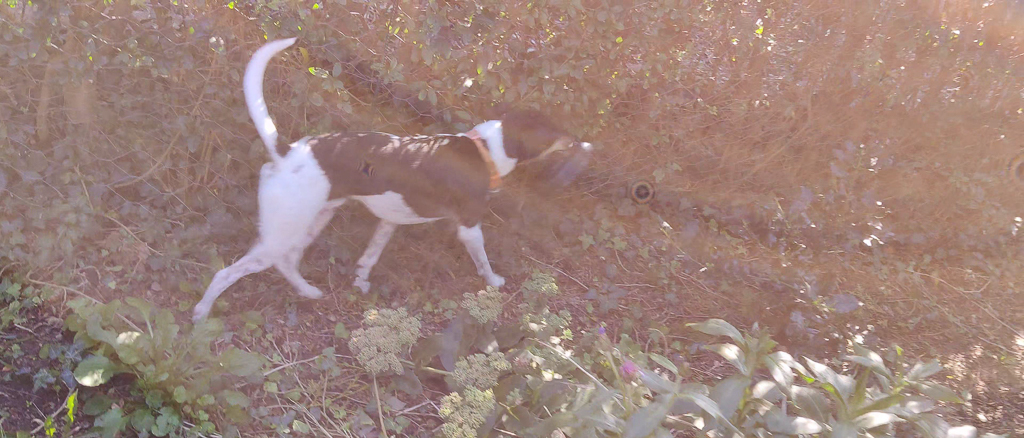Dog: (179, 26, 589, 329)
